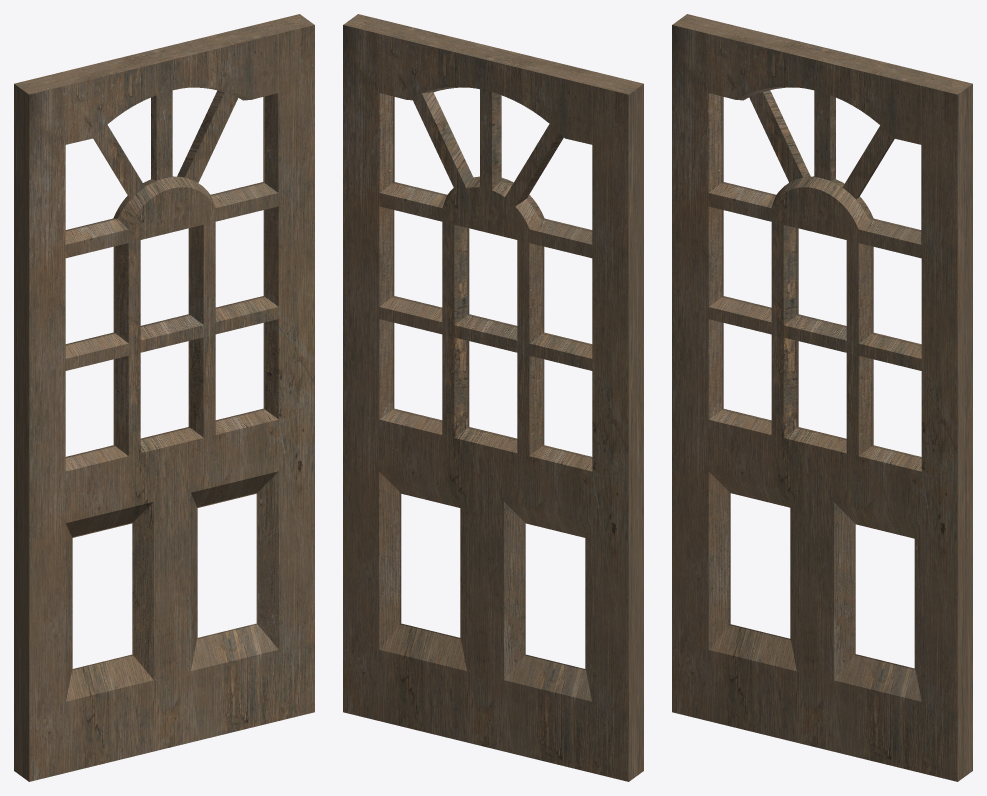
File: Door.FBX
3 views of the same model, side by side, from view 1: azimuth 30°, elevation 25°; view 2: azimuth 150°, elevation 25°; view 3: azimuth 330°, elevation 25° (orthographic).
Visible parts, largest first — view 1: Door; view 2: Door; view 3: Door.
Boxes of the visible parts, bbox=[...] form: Door: bbox=[14, 14, 314, 781]; Door: bbox=[343, 14, 643, 781]; Door: bbox=[672, 14, 972, 781].
Size of the model in its own units: 0.4186 by 0.9623 by 0.0381.
1 material, 1 textured.
